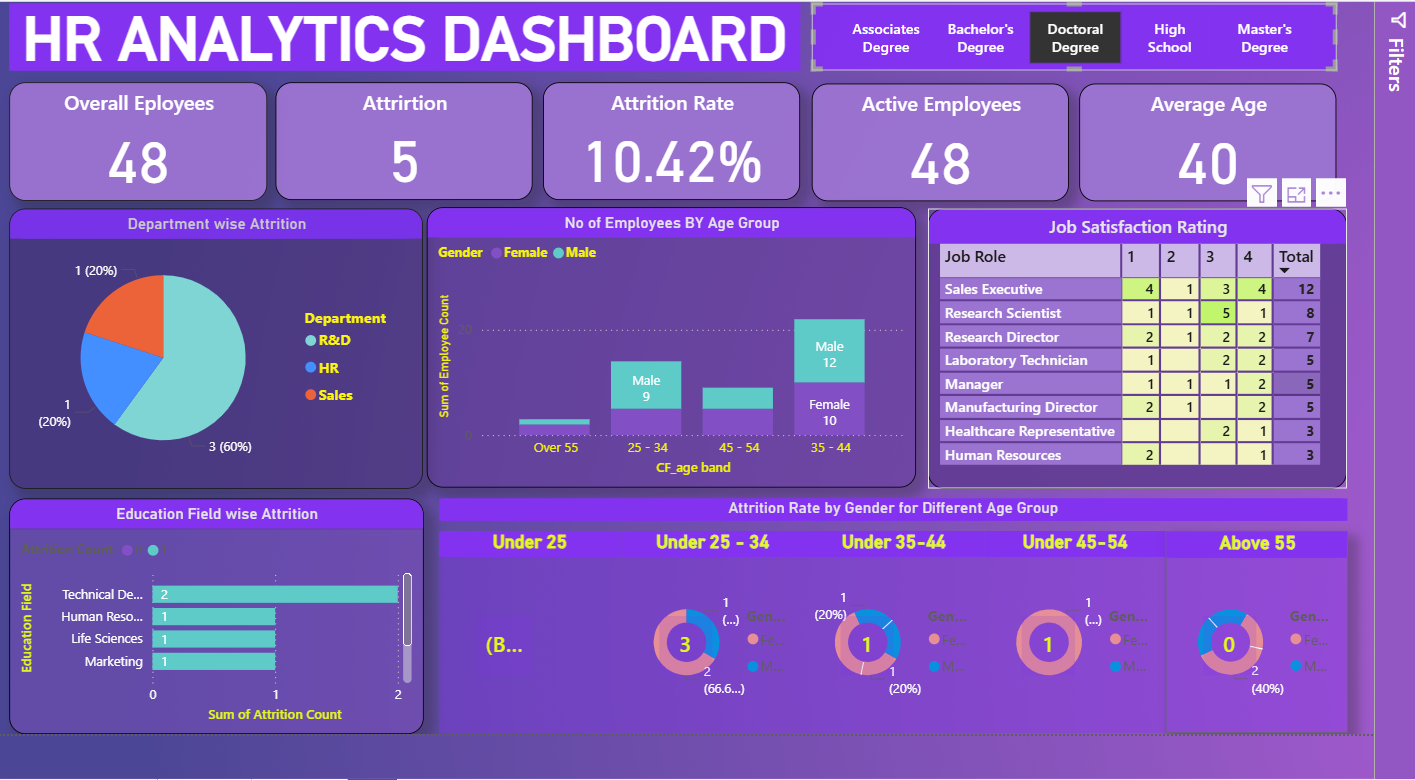

The page's visual inventory and layout, read from the dashboard file:
{"tool":"powerbi","page":{"name":"Page 1","canvas":[1280,720],"ordinal":0},"visuals":[{"type":"card","title":"Overall Eployees","fields":{"Values":["Sum(HR data.Employee Count)"]},"box":[10.5,112.8,240,110],"z":0},{"type":"card","title":"Attrirtion","fields":{"Values":["Sum(HR data.Attrition Count)"]},"box":[258.1,112.8,239.5,109.3],"z":1000},{"type":"card","title":"Attrition Rate","fields":{"Values":["HR data.Attrition Rate"]},"box":[507,112.8,239.5,109.3],"z":2000},{"type":"card","title":"Active Employees","fields":{"Values":["Sum(HR data.Employee Count)"]},"box":[757,114,239.5,109.3],"z":3000},{"type":"card","title":"Average Age","fields":{"Values":["Avg(HR data.Age)"]},"box":[1005.8,114,239.5,109.3],"z":4000},{"type":"pieChart","title":"Department wise Attrition","fields":{"Y":["Sum(HR data.Attrition Count)"],"Category":["HR data.Department"]},"box":[10.5,230.2,384.9,260.5],"z":5000},{"type":"columnChart","title":"No of Employees BY Age Group","fields":{"Category":["HR data.CF_age band"],"Y":["Sum(HR data.Employee Count)"],"Series":["HR data.Gender"]},"box":[399.2,229.3,455.1,260.7],"z":6000},{"type":"pivotTable","title":"Job Satisfaction Rating","fields":{"Rows":["HR data.Job Role"],"Columns":["HR data.Job Satisfaction"],"Values":["Sum(HR data.Employee Count)"]},"box":[864.7,230.4,389.9,260.7],"z":7000},{"type":"barChart","title":"Education Field wise Attrition","fields":{"Category":["HR data.Education Field"],"Series":["HR data.Attrition Count"],"Y":["Sum(HR data.Attrition Count)"]},"box":[10.5,500.5,385.2,218.8],"z":7001},{"type":"donutChart","title":"Under 25","fields":{"Category":["HR data.Gender"],"Y":["Sum(HR data.Attrition Count)"],"Series":["HR data.CF_age band"]},"box":[410.7,530.2,169,188.2],"z":7002},{"type":"textbox","title":"Attrition Rate by Gender for Different Age Group","box":[410.7,500,844.8,20.6],"z":7003},{"type":"donutChart","title":"Under 25 - 34","fields":{"Category":["HR data.Gender"],"Y":["Sum(HR data.Attrition Count)"],"Series":["HR data.CF_age band"]},"box":[579.7,530.2,169,188.2],"z":7004},{"type":"donutChart","title":"Under 35-44","fields":{"Category":["HR data.Gender"],"Y":["Sum(HR data.Attrition Count)"],"Series":["HR data.CF_age band"]},"box":[748.7,530.2,169,188.2],"z":7005},{"type":"donutChart","title":"Under 45-54","fields":{"Category":["HR data.Gender"],"Y":["Sum(HR data.Attrition Count)"],"Series":["HR data.CF_age band"]},"box":[917.6,530.2,169,188.2],"z":7006},{"type":"donutChart","title":"Above 55","fields":{"Category":["HR data.Gender"],"Y":["Sum(HR data.Attrition Count)"],"Series":["HR data.CF_age band"]},"box":[1086,530.2,169.8,188.4],"z":7007},{"type":"card","fields":{"Values":["Sum(HR data.Attrition Count)"]},"box":[446,609.3,49.4,54.9],"z":7008},{"type":"card","fields":{"Values":["Sum(HR data.Attrition Count)"]},"box":[614.8,609.3,49.4,54.9],"z":7009},{"type":"card","fields":{"Values":["Sum(HR data.Attrition Count)"]},"box":[783.5,609.3,49.4,54.9],"z":7010},{"type":"card","fields":{"Values":["Sum(HR data.Attrition Count)"]},"box":[952.3,609.3,49.4,54.9],"z":7011},{"type":"card","fields":{"Values":["Sum(HR data.Attrition Count)"]},"box":[1121.1,609.3,49.4,54.9],"z":7012},{"type":"textbox","title":"HR ANALYTICS  DASHBOARD","box":[10.5,39.5,736,62.8],"z":7013},{"type":"slicer","fields":{"Values":["HR data.Education"]},"box":[757,39.5,488.4,62.8],"z":7014}]}

Visuals, with their boxes in screenshot pixels (x1, y1, x2, y2), scaled from the page's 1280x720 canvas onto the 1415x780 screenshot:
"Overall Eployees" card: 12, 122, 277, 241
"Attrirtion" card: 285, 122, 550, 241
"Attrition Rate" card: 560, 122, 825, 241
"Active Employees" card: 837, 123, 1102, 242
"Average Age" card: 1112, 123, 1377, 242
"Department wise Attrition" pieChart: 12, 249, 437, 532
"No of Employees BY Age Group" columnChart: 441, 248, 944, 531
"Job Satisfaction Rating" pivotTable: 956, 250, 1387, 532
"Education Field wise Attrition" barChart: 12, 542, 437, 779
"Under 25" donutChart: 454, 574, 641, 778
"Attrition Rate by Gender for Different Age Group" textbox: 454, 542, 1388, 564
"Under 25 - 34" donutChart: 641, 574, 828, 778
"Under 35-44" donutChart: 828, 574, 1014, 778
"Under 45-54" donutChart: 1014, 574, 1201, 778
"Above 55" donutChart: 1201, 574, 1388, 778
card - Sum(HR data.Attrition Count): 493, 660, 548, 720
card - Sum(HR data.Attrition Count): 680, 660, 734, 720
card - Sum(HR data.Attrition Count): 866, 660, 921, 720
card - Sum(HR data.Attrition Count): 1053, 660, 1107, 720
card - Sum(HR data.Attrition Count): 1239, 660, 1294, 720
"HR ANALYTICS  DASHBOARD" textbox: 12, 43, 825, 111
slicer - HR data.Education: 837, 43, 1377, 111
